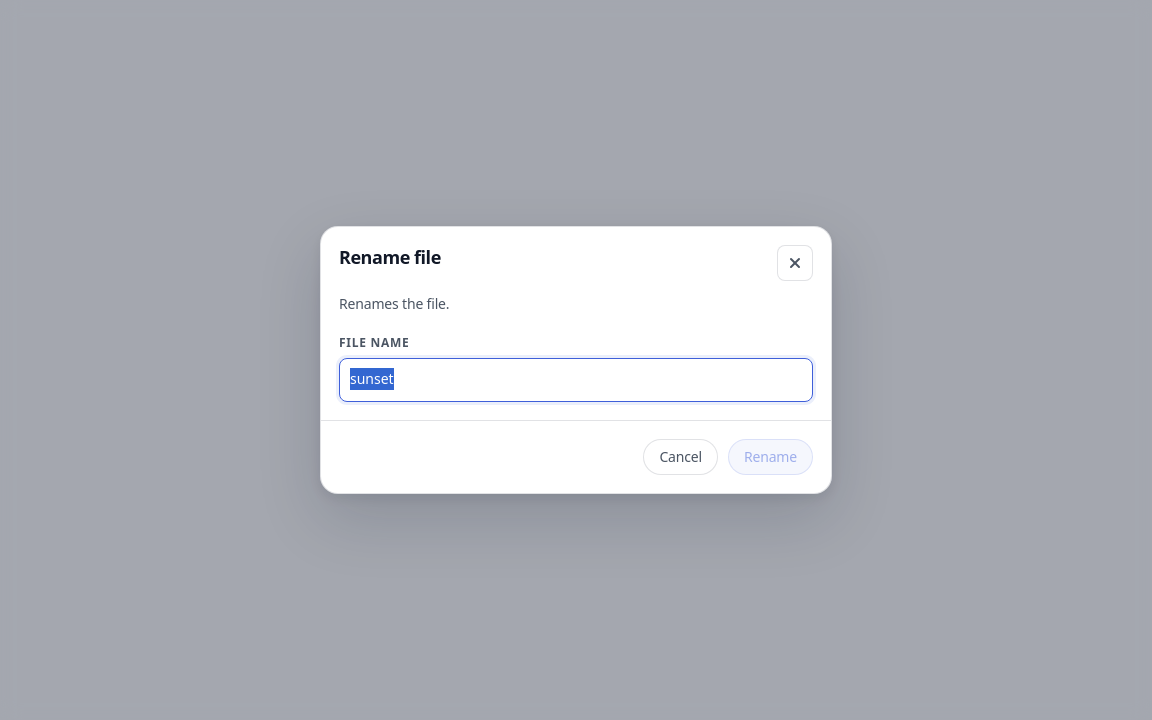
RenameDialog › accepts a change of case
Replace the text in the field labelled "File name" with "Sunset" at (576, 380), box [339, 358, 813, 402]
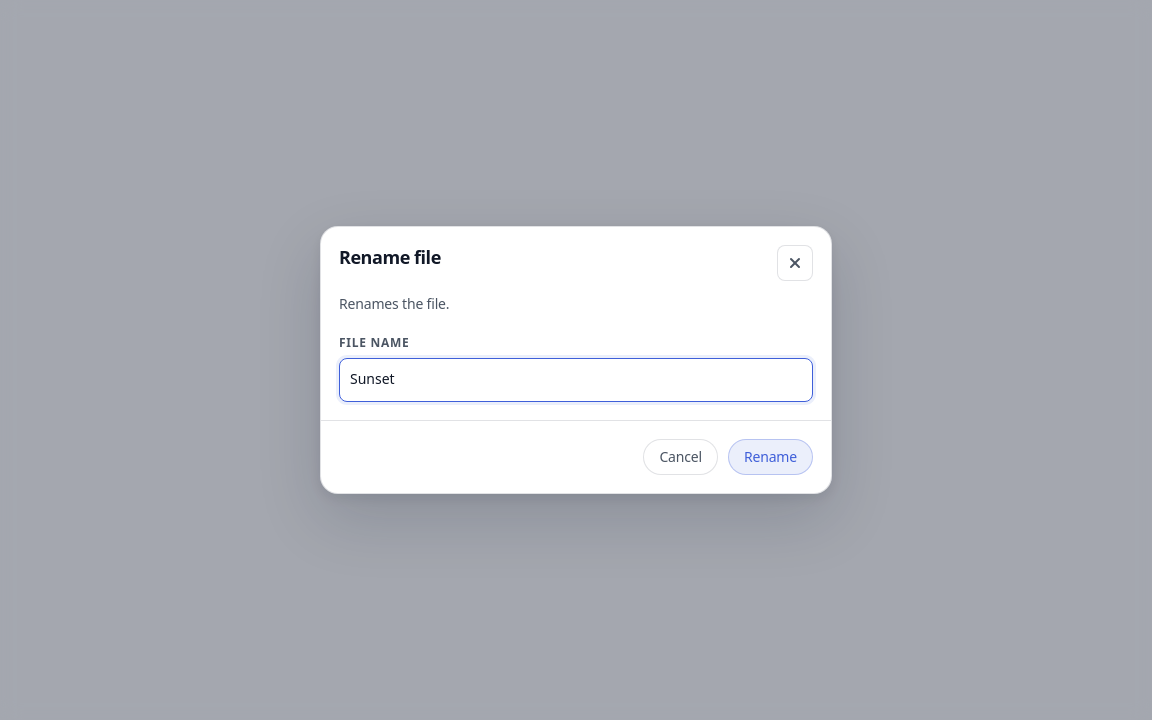
Expected: the button "Rename" is enabled, [728, 439, 813, 475]
